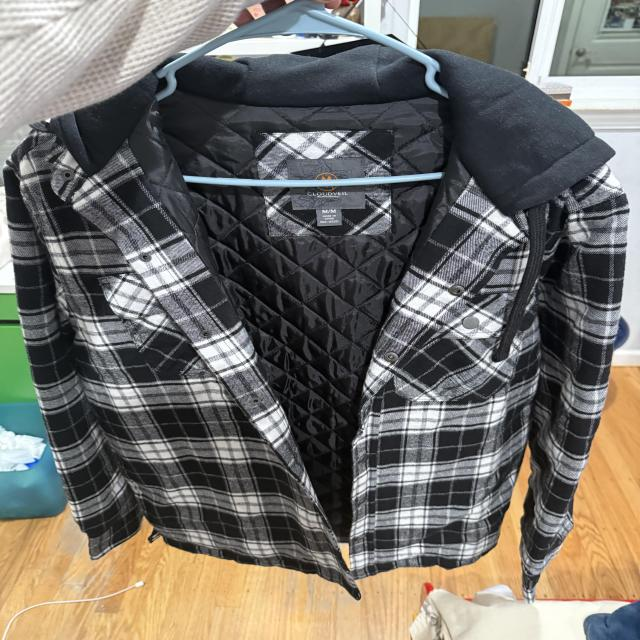back_tag: (293, 156, 370, 228)
